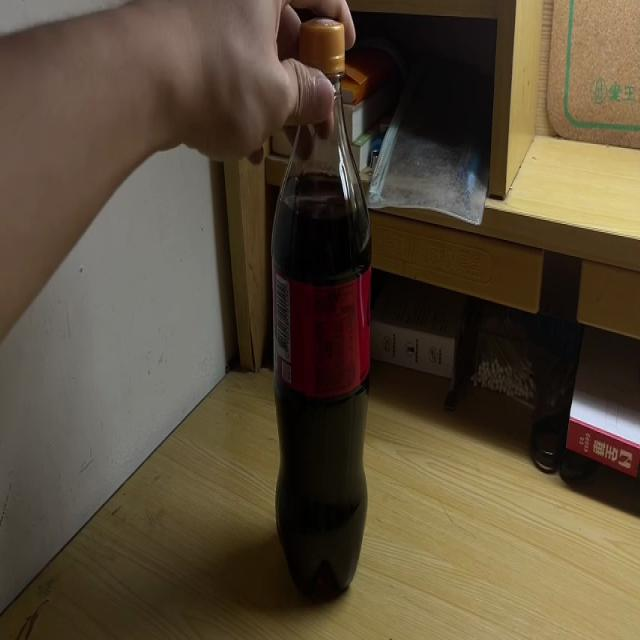Coca-Cola: (270, 16, 371, 602)
